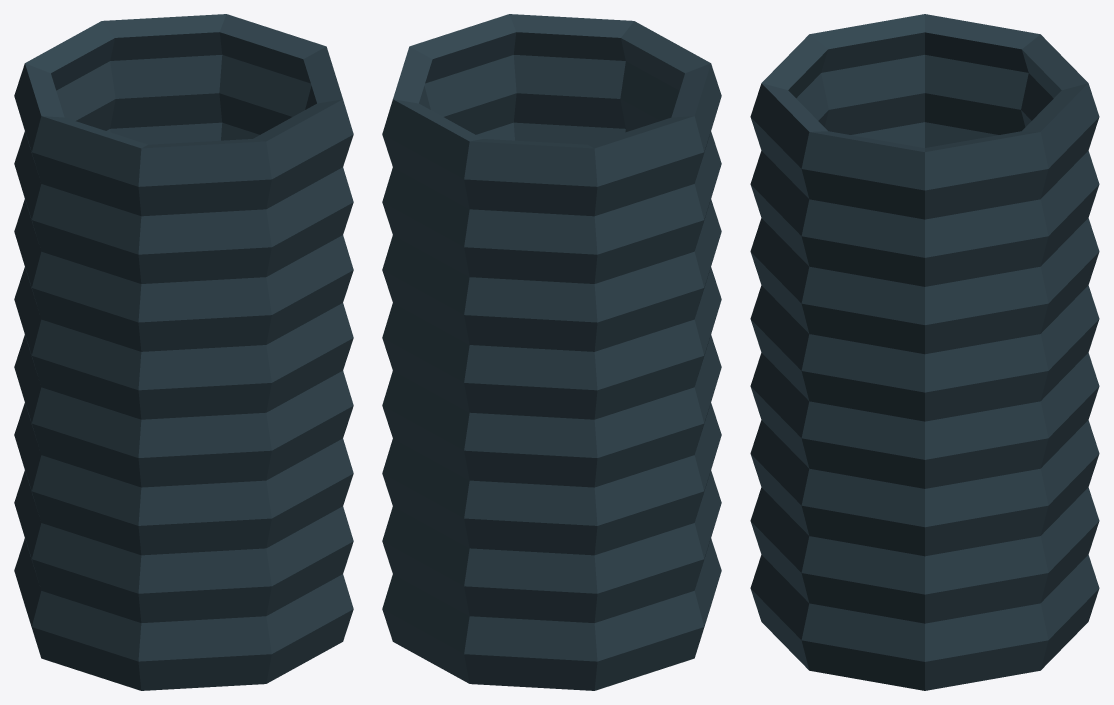
The model's file is Junk_6.fbx.
3 renders of one model, left to right at view 1: azimuth 30°, elevation 25°; view 2: azimuth 150°, elevation 25°; view 3: azimuth 270°, elevation 25°, orthographic.
Parts seen in each view (by area): view 1: Circle; view 2: Circle; view 3: Circle.
Boxes of the visible parts, left/top/right/bottom form: Circle: left=14, top=14, right=353, bottom=690; Circle: left=382, top=14, right=721, bottom=690; Circle: left=750, top=14, right=1099, bottom=690.
Size of the model in its own units: 72.38 by 123 by 72.38.
